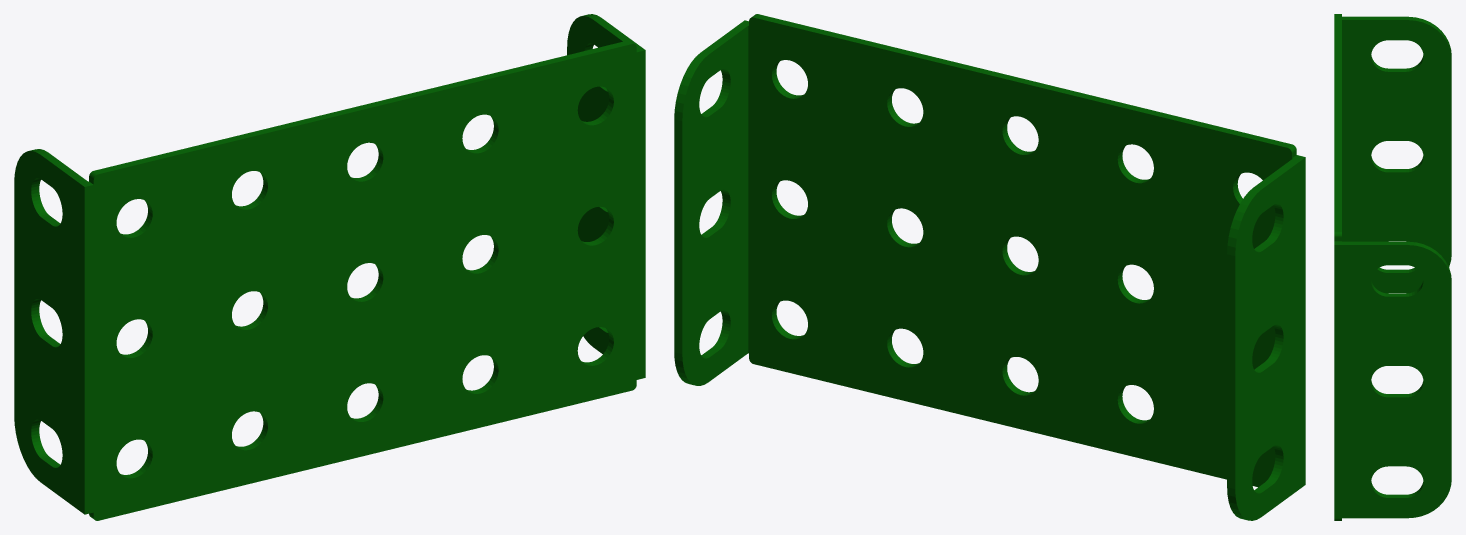
Rendered from ThanhChuU_3x5.glb.
The picture shows the model from 3 angles, left to right: view 1: azimuth 30°, elevation 25°; view 2: azimuth 150°, elevation 25°; view 3: azimuth 270°, elevation 25°; orthographic projection. The views are drawn at different scales.
Visible parts, largest first — view 1: defaultobject.001; view 2: defaultobject.001; view 3: defaultobject.001.
Boxes of the visible parts, x1,y1,x2,y2 form: defaultobject.001: (14,14,645,520); defaultobject.001: (674,14,1305,520); defaultobject.001: (1334,14,1451,520).
Size of the model in its own units: 154 by 91.13 by 33.62.
